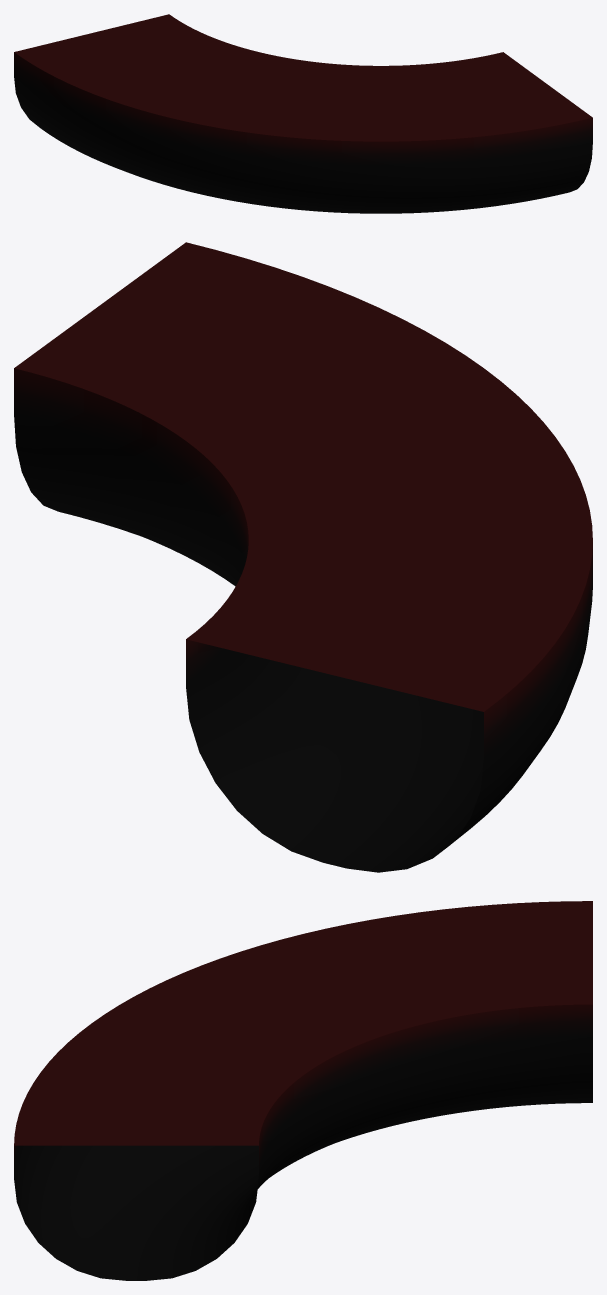
The model's file is gutter_corner_water_01.fbx.
The picture shows the model from 3 angles, top to bottom: view 1: azimuth 30°, elevation 25°; view 2: azimuth 150°, elevation 25°; view 3: azimuth 270°, elevation 25°; orthographic projection. The views are drawn at different scales.
Parts seen in each view (by area): view 1: Cube.058; view 2: Cube.058; view 3: Cube.058.
Boxes of the visible parts, left/top/right/bottom form: Cube.058: left=14, top=14, right=592, bottom=213; Cube.058: left=14, top=242, right=592, bottom=872; Cube.058: left=14, top=901, right=592, bottom=1280.
Size of the model in its own units: 1.27 by 0.3267 by 1.27.
